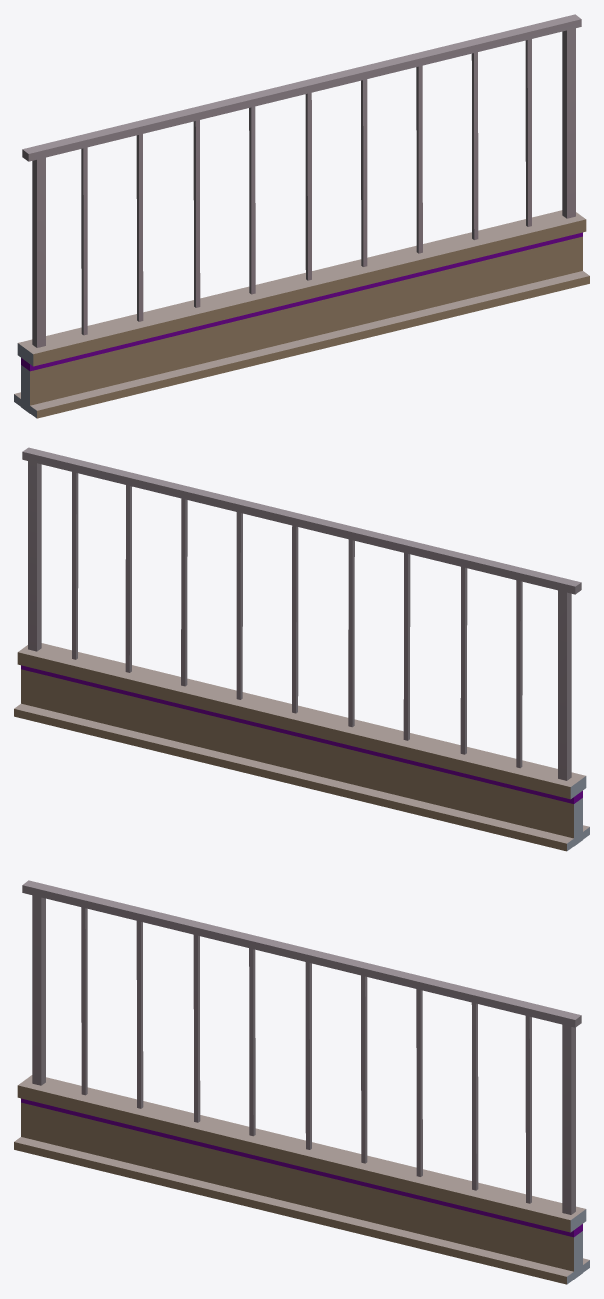
File: Prop_gridwall.glb
3 views of the same model, one above another, from view 1: azimuth 30°, elevation 25°; view 2: azimuth 150°, elevation 25°; view 3: azimuth 330°, elevation 25° (orthographic).
Parts seen in each view (by area): view 1: Prop_gridwall; view 2: Prop_gridwall; view 3: Prop_gridwall.
Boxes of the visible parts, x1,y1,x2,y2 form: Prop_gridwall: (14,14,589,418); Prop_gridwall: (14,447,589,851); Prop_gridwall: (14,880,589,1284).
Size of the model in its own units: 0.9085 by 0.4067 by 0.0656.
